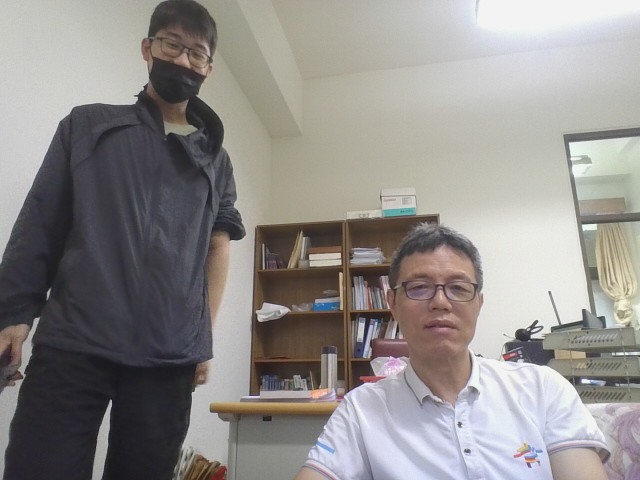No_Gloves: (0, 320, 32, 388)
No_Helmet: (383, 219, 487, 382), (137, 0, 219, 111)
person: (0, 0, 256, 478), (260, 205, 633, 480)
